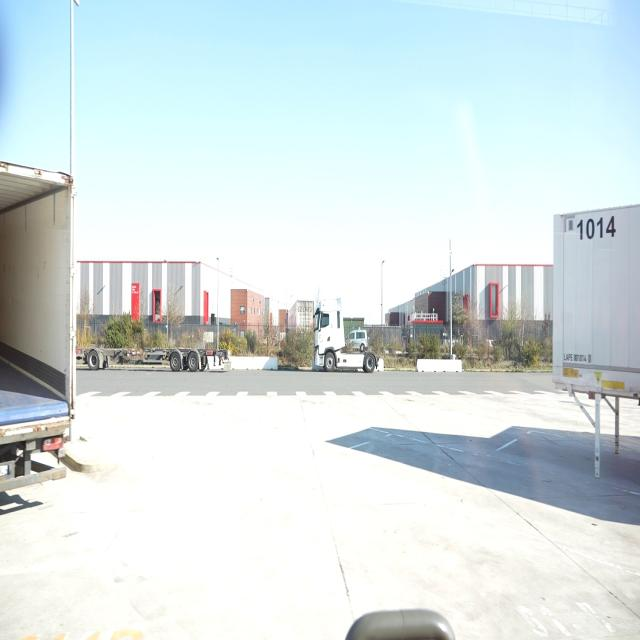Code: (575, 215, 619, 241)
